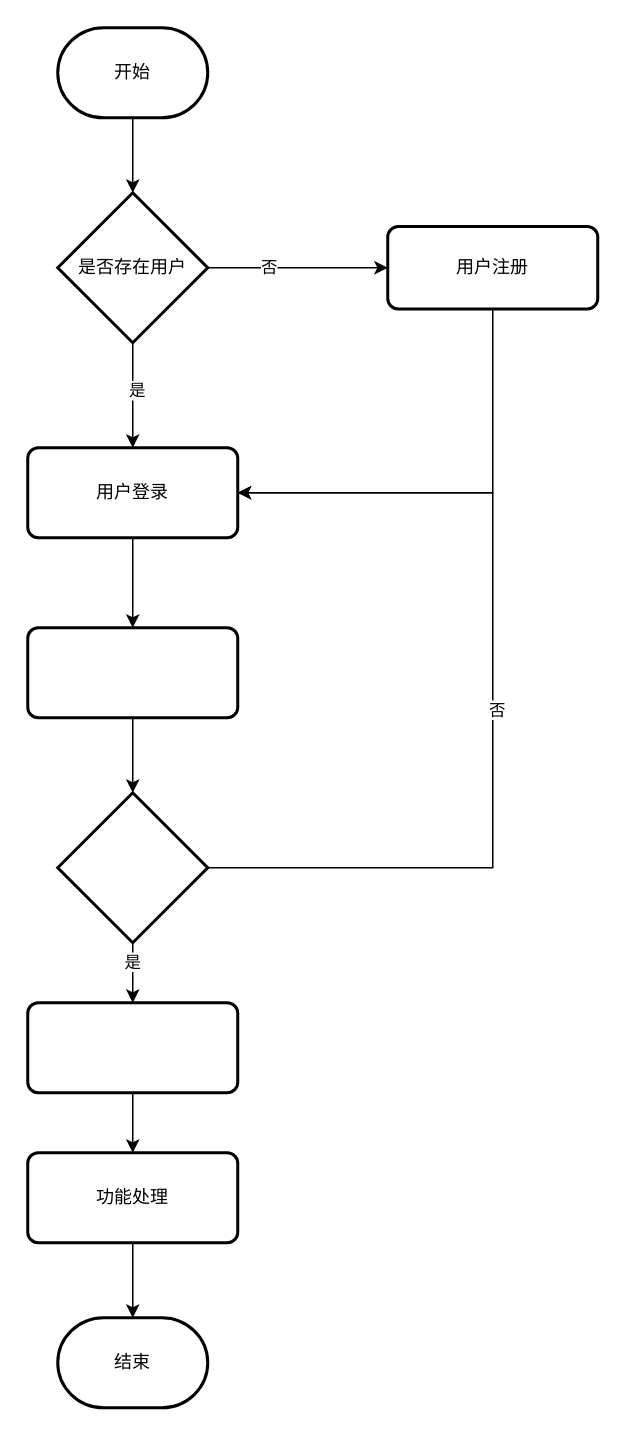
This 624x1434 diagram has some shape labels left out. The centre of each missing label's shape, as x and y in pixels:
"系统首页" goes at (132,1047).
"输入用户名密码" goes at (132,672).
"验证用户信息" goes at (132,867).
